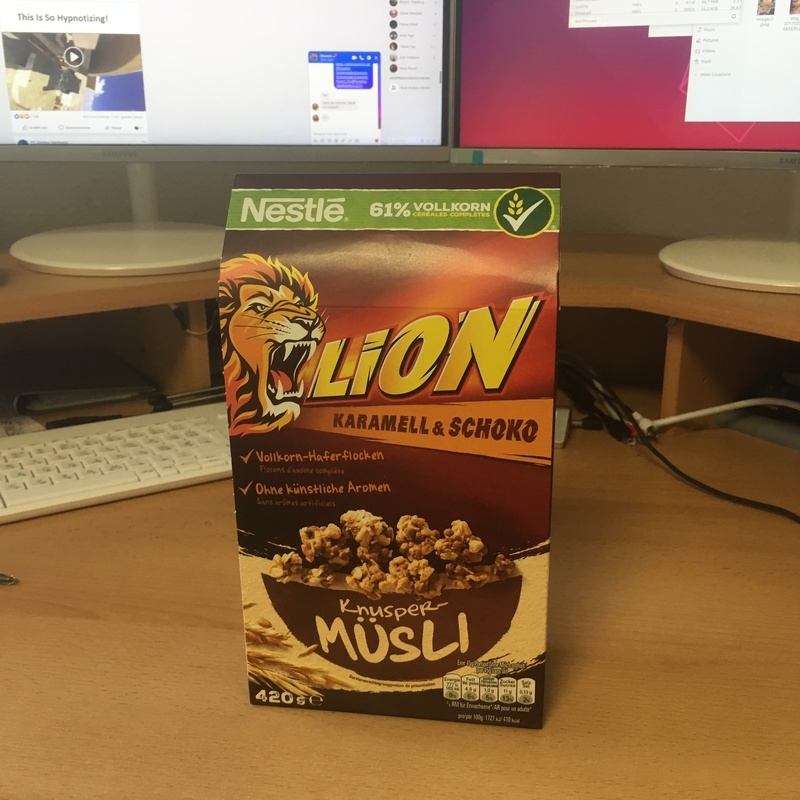cereals: (217, 171, 562, 732)
